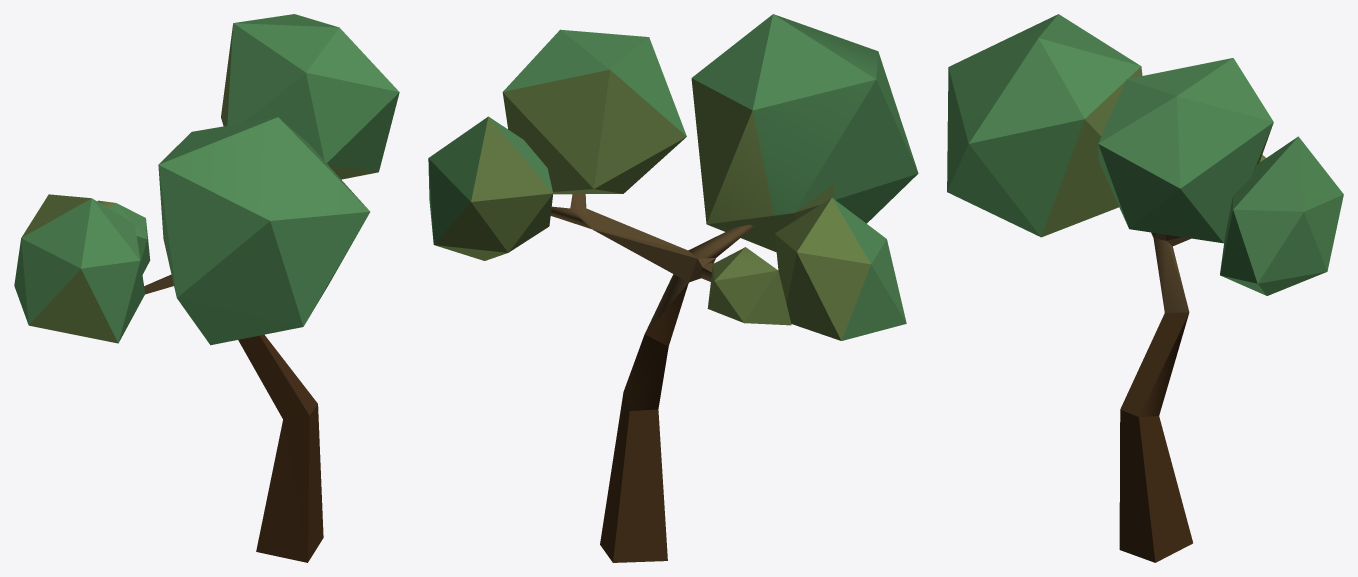
File: low poly tree woohoo.fbx
3 renders of one model, left to right at view 1: azimuth 30°, elevation 25°; view 2: azimuth 150°, elevation 25°; view 3: azimuth 270°, elevation 25°, orthographic. The views are drawn at different scales.
Visible parts, largest first — view 1: Tree1.002; view 2: Tree1.002; view 3: Tree1.002.
Boxes of the visible parts, x1=… form: Tree1.002: x1=14, y1=14, x2=399, y2=562; Tree1.002: x1=428, y1=14, x2=918, y2=562; Tree1.002: x1=947, y1=14, x2=1343, y2=562.
Bounding box in the file's own units: 337 × 398 × 296.
1 material, 1 textured.
